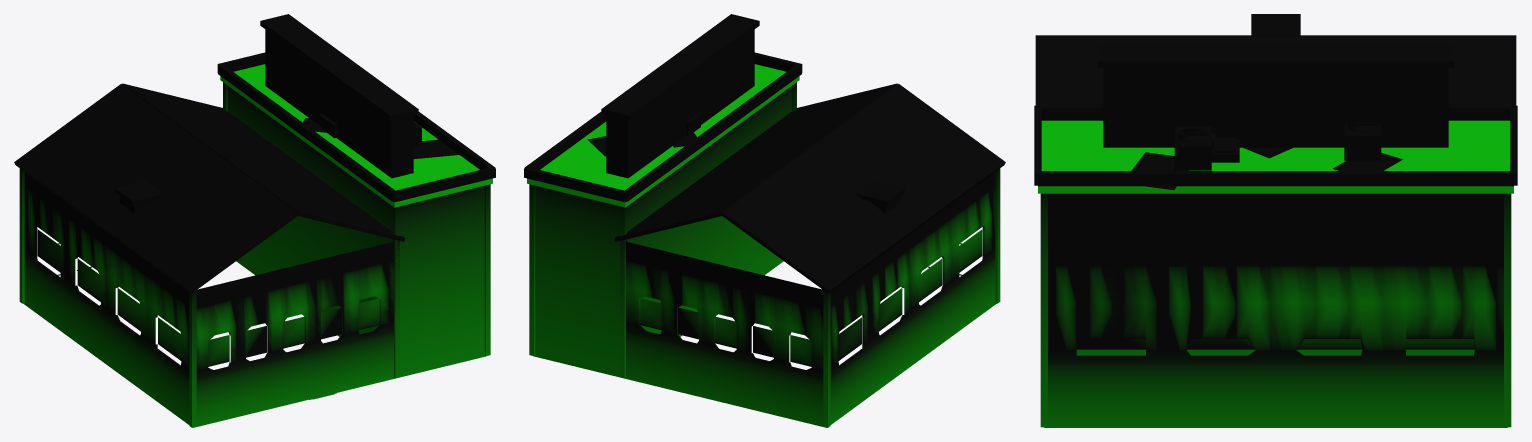
Rendered from heavyindustrial.glb.
3 views of the same model, side by side, from view 1: azimuth 30°, elevation 25°; view 2: azimuth 150°, elevation 25°; view 3: azimuth 270°, elevation 25° (orthographic). The views are drawn at different scales.
Visible parts, largest first — view 1: lod0; view 2: lod0; view 3: lod0.
Boxes of the visible parts, left/top/right/bottom form: lod0: left=14, top=14, right=495, bottom=427; lod0: left=524, top=14, right=1005, bottom=427; lod0: left=1034, top=14, right=1517, bottom=427.
Size of what is drawn, in the model's own units: 20 by 14.95 by 19.6.
